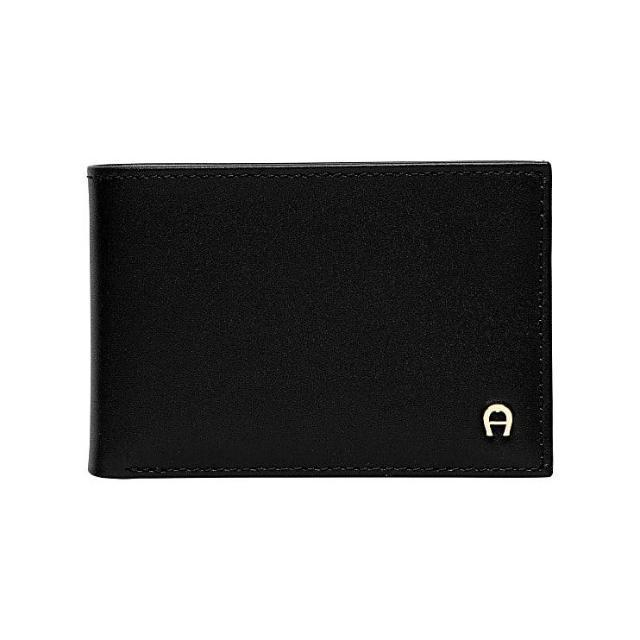wallet: (78, 156, 560, 478)
